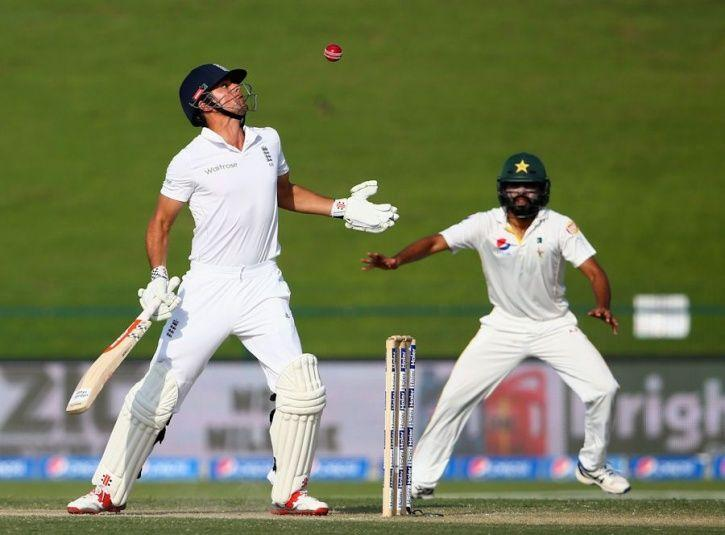batsman: (58, 62, 402, 514)
